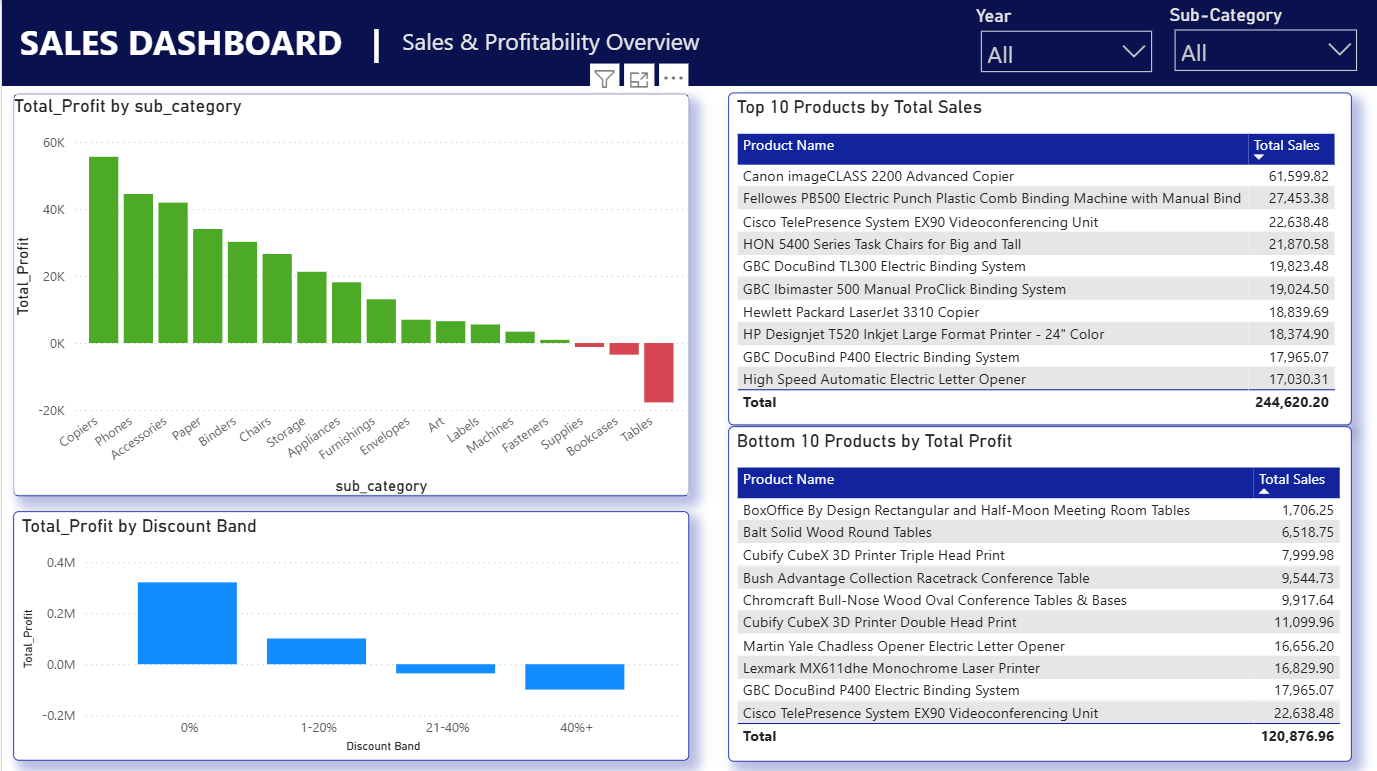

Layout of this report page (visuals, bound fields, positions):
{"tool":"powerbi","page":{"name":"Sales & Profitablity","canvas":[1280,720],"ordinal":1},"visuals":[{"type":"shape","box":[0,0,1279.5,80],"z":0},{"type":"textbox","box":[11.2,11.2,375.4,55.9],"z":1000},{"type":"textbox","box":[368,19,348.7,43.6],"z":2000},{"type":"slicer","title":"Year","fields":{"Values":["Dim_Date.Year"]},"box":[906.1,4.9,168.8,67.3],"z":3000},{"type":"slicer","title":"Sub-Category","fields":{"Values":["Dim_Product.sub_category"]},"box":[1085.9,3.7,179.8,75.8],"z":4000},{"type":"clusteredColumnChart","fields":{"Category":["Dim_Product.sub_category"],"Y":["Fact_Orders.Total_Profit"]},"box":[11,86.8,628.5,374.2],"z":5000},{"type":"clusteredColumnChart","fields":{"Category":["Fact_Orders.Discount Band"],"Y":["Fact_Orders.Total_Profit"]},"box":[11,475.7,628.5,232.3],"z":6000},{"type":"tableEx","title":"Top 10 Products by Total Sales","fields":{"Values":["Dim_Product.product_name","Fact_Orders.Total_Sales"]},"box":[675.1,86.4,579.6,309.4],"z":7000},{"type":"tableEx","title":"Bottom 10 Products by Total Profit","fields":{"Values":["Dim_Product.product_name","Fact_Orders.Total_Sales"]},"box":[675,396.2,579.6,311.8],"z":8000}]}

Visuals, with their boxes in screenshot pixels (x1, y1, x2, y2), scaled from the page's 1280x720 canvas onto the 1377x771 screenshot:
shape: x1=0, y1=0, x2=1376, y2=86
textbox: x1=12, y1=12, x2=416, y2=72
textbox: x1=396, y1=20, x2=771, y2=67
"Year" slicer: x1=975, y1=5, x2=1156, y2=77
"Sub-Category" slicer: x1=1168, y1=4, x2=1362, y2=85
clusteredColumnChart - Dim_Product.sub_category x Fact_Orders.Total_Profit: x1=12, y1=93, x2=688, y2=494
clusteredColumnChart - Fact_Orders.Discount Band x Fact_Orders.Total_Profit: x1=12, y1=509, x2=688, y2=758
"Top 10 Products by Total Sales" tableEx: x1=726, y1=93, x2=1350, y2=424
"Bottom 10 Products by Total Profit" tableEx: x1=726, y1=424, x2=1350, y2=758
